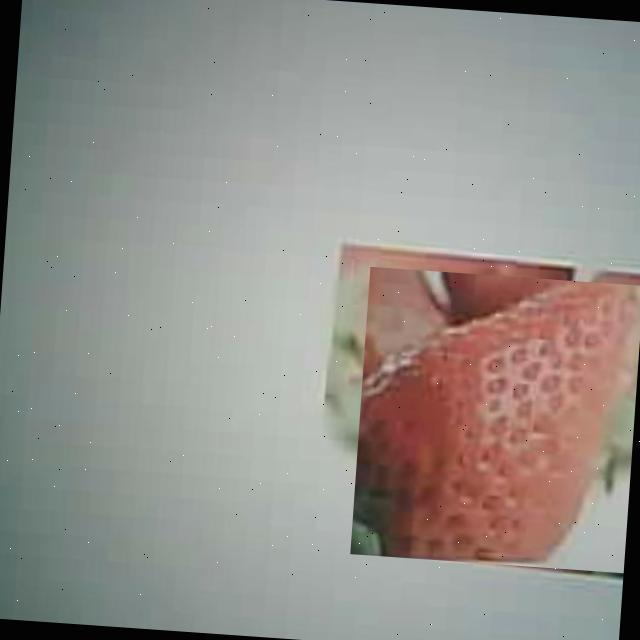ripe: (350, 267, 640, 573)
